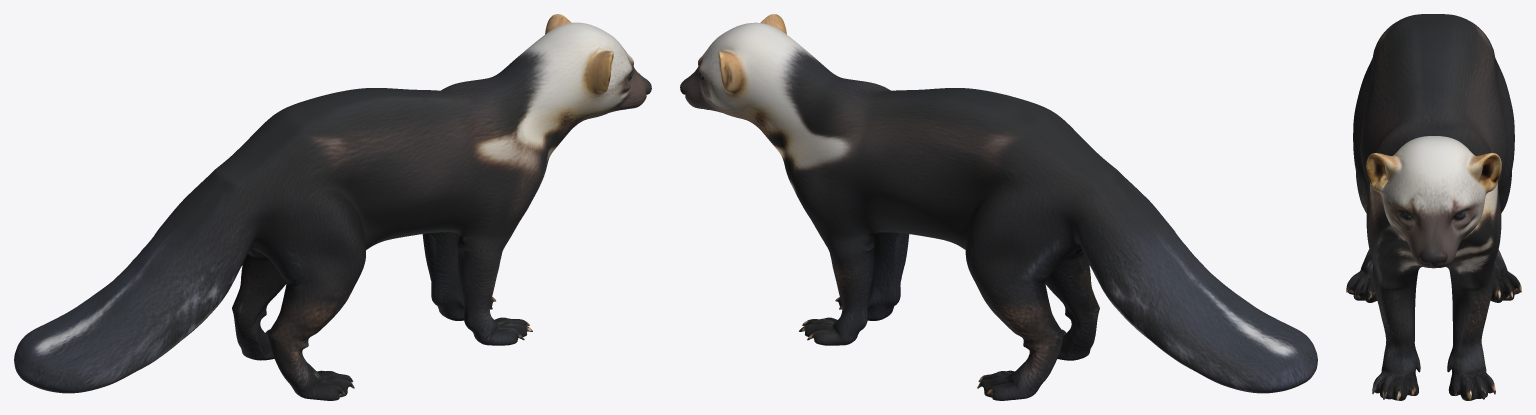
File: Taira.fbx
The picture shows the model from 3 angles, left to right: view 1: azimuth 30°, elevation 25°; view 2: azimuth 150°, elevation 25°; view 3: azimuth 270°, elevation 25°; orthographic projection. The views are drawn at different scales.
Parts seen in each view (by area): view 1: Mesh_0; view 2: Mesh_0; view 3: Mesh_0.
Boxes of the visible parts, x1=… form: Mesh_0: x1=14, y1=14, x2=651, y2=400; Mesh_0: x1=680, y1=14, x2=1317, y2=400; Mesh_0: x1=1346, y1=14, x2=1521, y2=400.
Bounding box in the file's own units: 200 × 84.41 × 44.53.
Materials: 1 (1 with a texture image).
